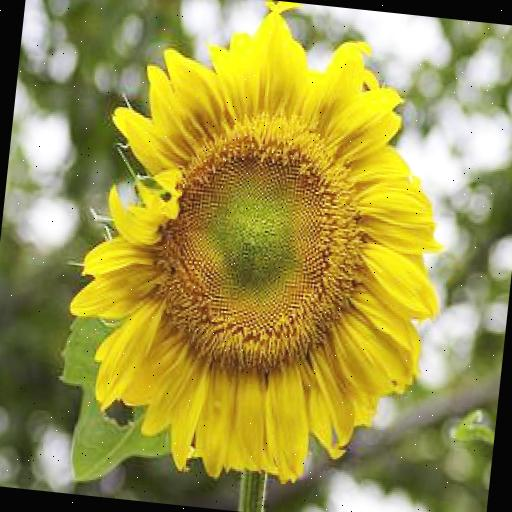sunflower: (58, 4, 468, 498)
